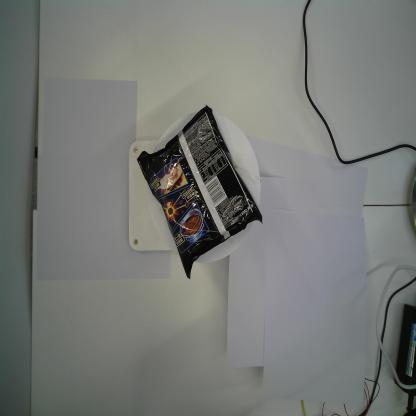Instant Noodles: (136, 104, 263, 279)
